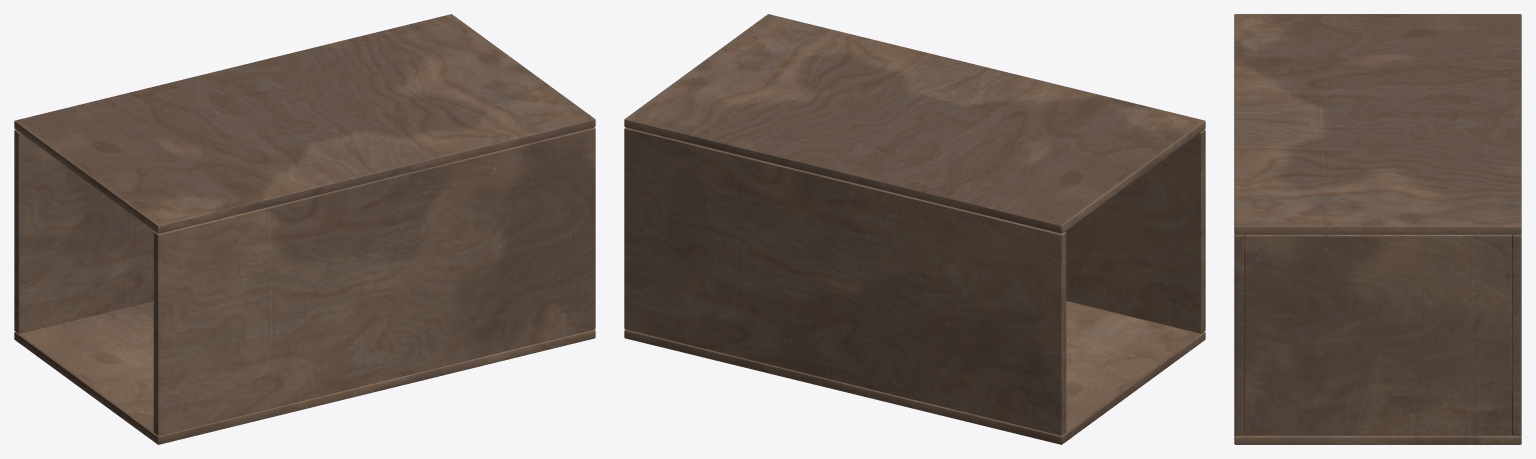
Rendered from SM_Middle_Table_v2.fbx.
3 renders of one model, left to right at view 1: azimuth 30°, elevation 25°; view 2: azimuth 150°, elevation 25°; view 3: azimuth 270°, elevation 25°, orthographic.
Parts seen in each view (by area): view 1: SM_Middle_Table_v2_LOD0; view 2: SM_Middle_Table_v2_LOD0; view 3: SM_Middle_Table_v2_LOD0.
Boxes of the visible parts, x1,y1,x2,y2 form: SM_Middle_Table_v2_LOD0: (14,14,595,444); SM_Middle_Table_v2_LOD0: (624,14,1205,444); SM_Middle_Table_v2_LOD0: (1234,14,1521,444).
Bounding box in the file's own units: 46.5 × 26.49 × 22.27.
1 material, 1 textured.
